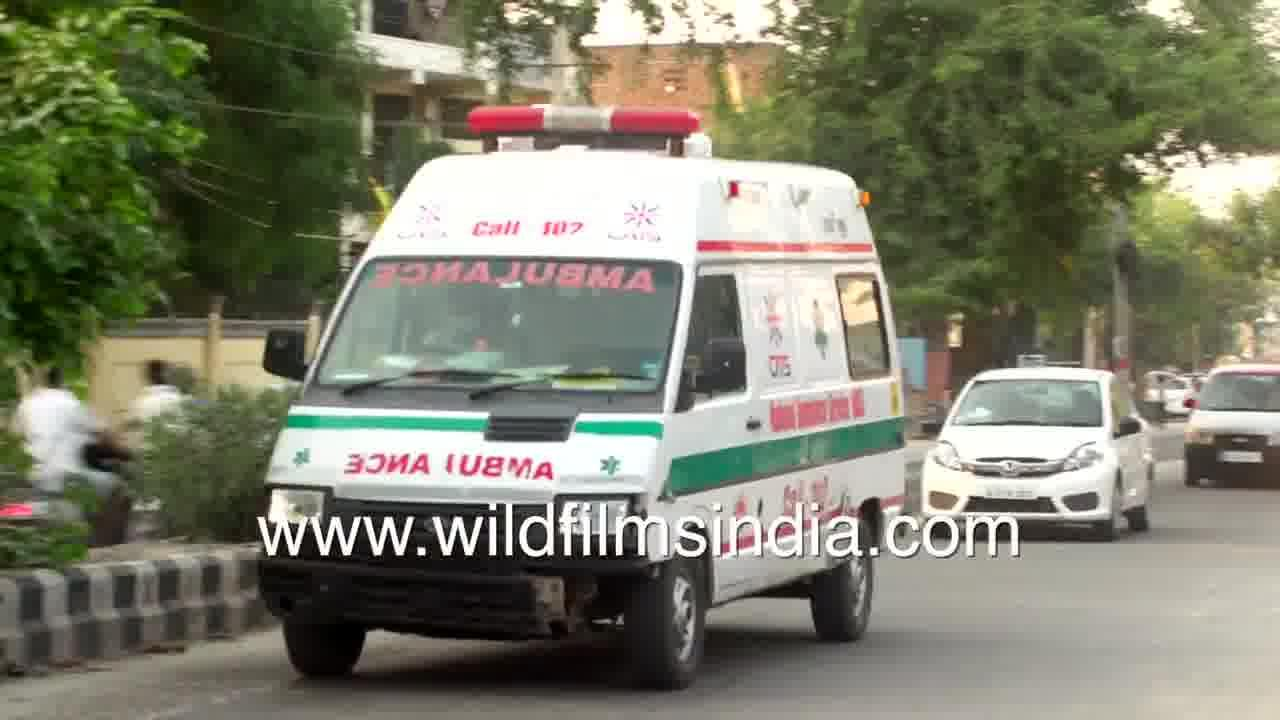AMBULANCE: (284, 84, 906, 502)
